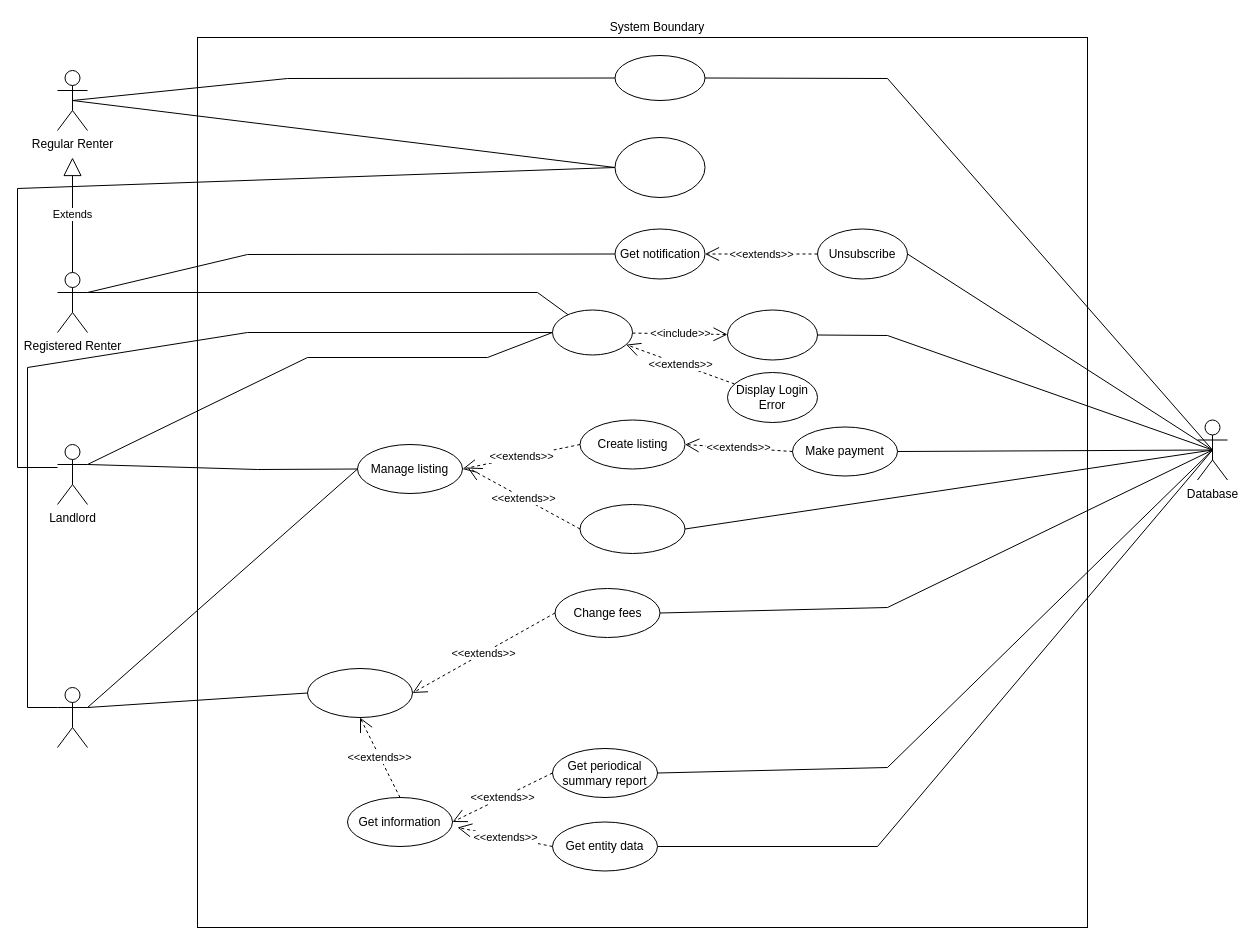
Image size: 1255x945. Some labels were removed from this diagram. The shapes that lost their labels are listed below. From the top down, each one's box as (x1, y1, x2, y2) in pixels, then its label:
(614, 54, 705, 100): Search listing
(614, 136, 705, 198): Send email
(552, 309, 632, 355): Log in
(726, 309, 818, 360): Verify Password
(579, 504, 685, 554): Edit listing
(306, 668, 412, 718): Manage system
(56, 686, 88, 748): Manager
